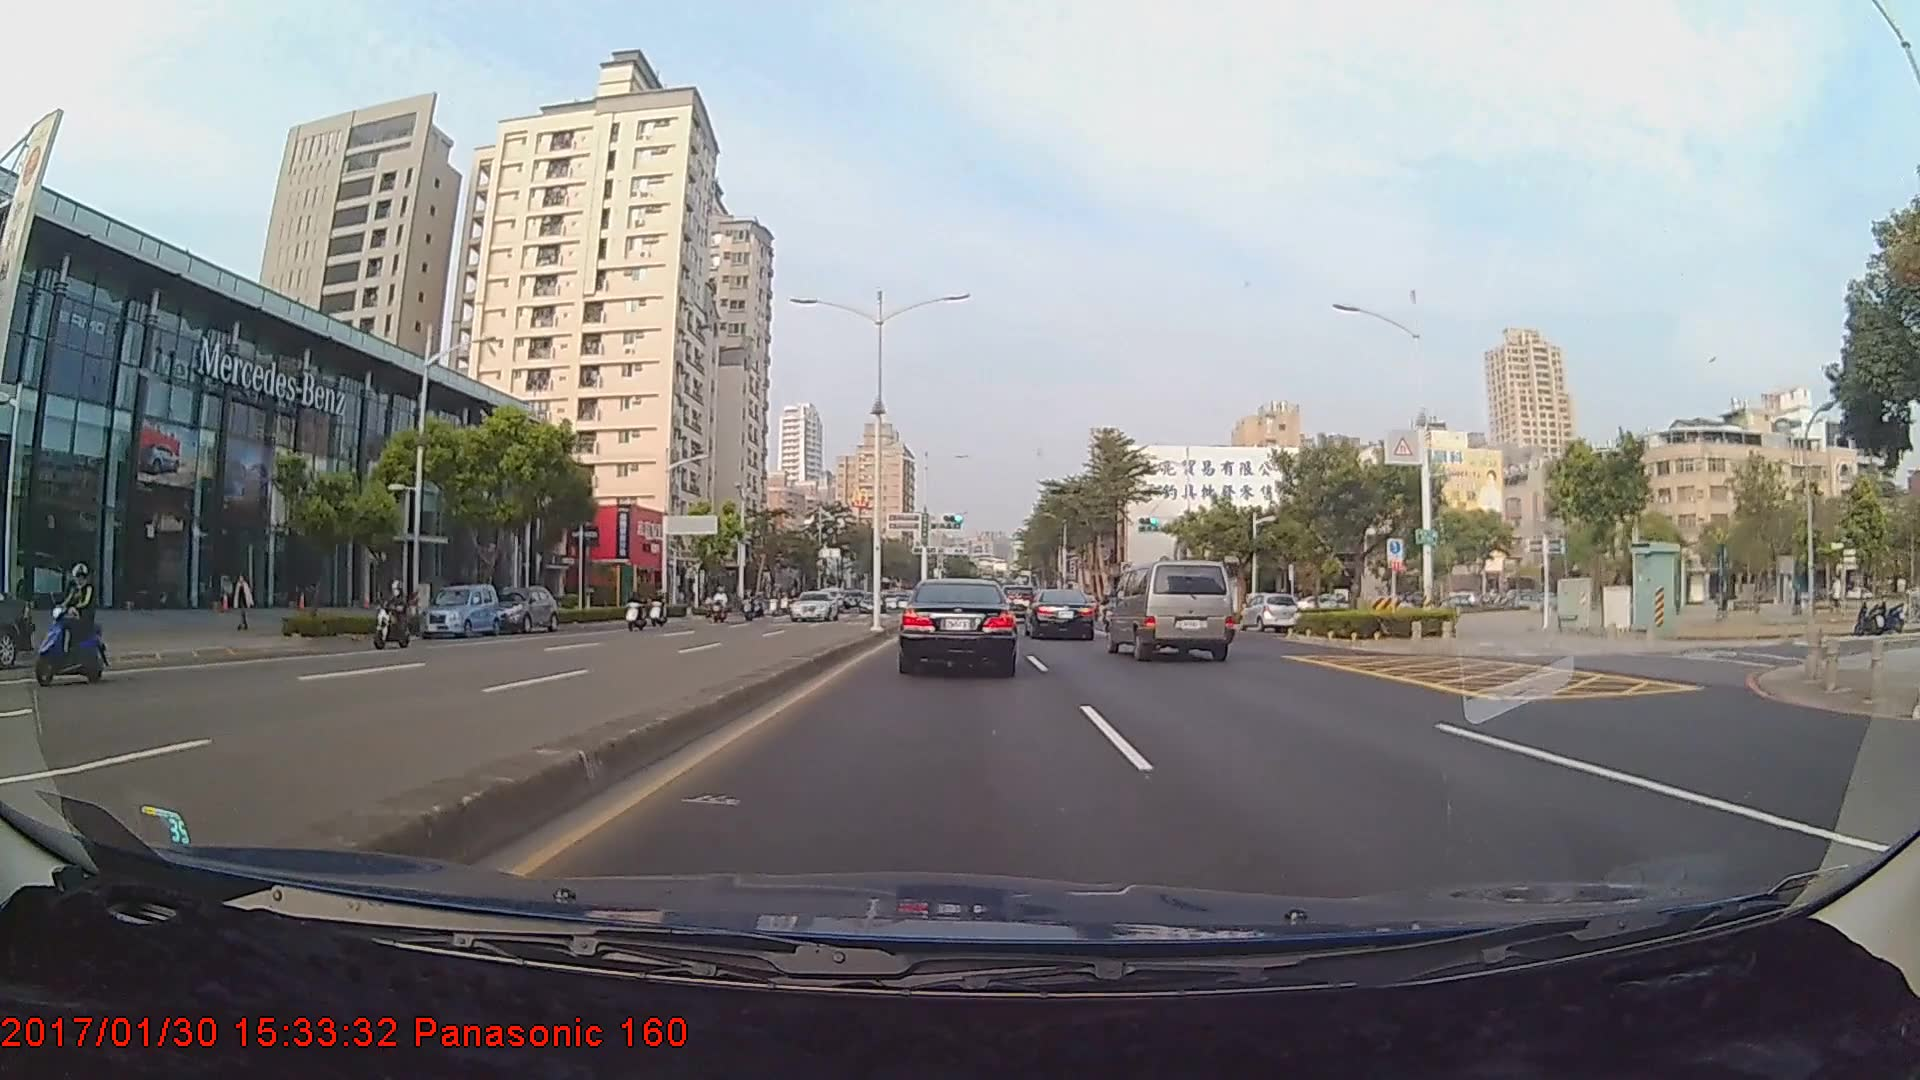pedestrian: (232, 571, 255, 634)
rider: (34, 563, 123, 688), (365, 580, 417, 658)
vehicle: (1106, 558, 1233, 662), (898, 577, 1019, 675), (419, 580, 499, 635), (482, 585, 561, 636), (1024, 588, 1097, 641), (1237, 592, 1302, 633), (789, 590, 840, 620)
